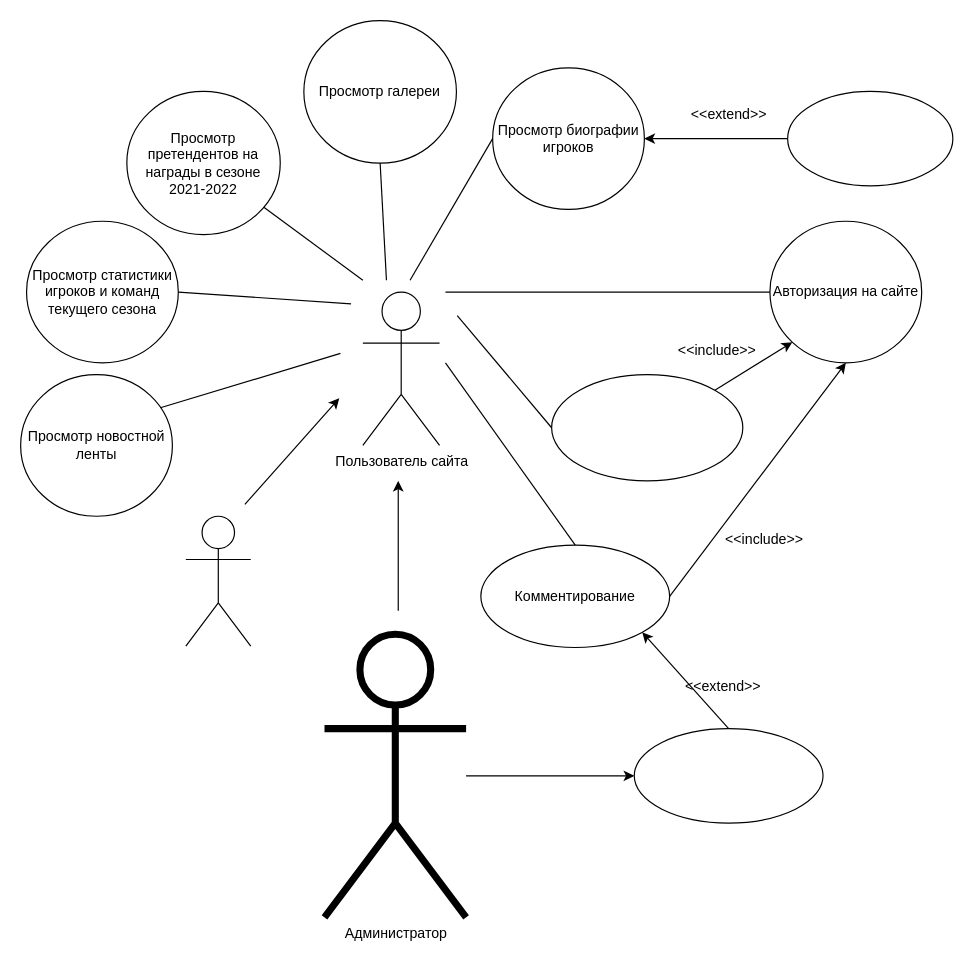
The diagram is 973 pixels wide and 963 high, and some of its shapes have lost their labels. The shapes that lost their labels are listed below. From the top down, each one's box as (x1, y1, x2, y2) in pixels, then its label:
(786, 90, 953, 186): Ускоренный поиск игрока
(550, 373, 743, 481): Изменение данных пользователя
(185, 515, 251, 646): Человек из интернета
(633, 727, 823, 823): Удалить комментарий
